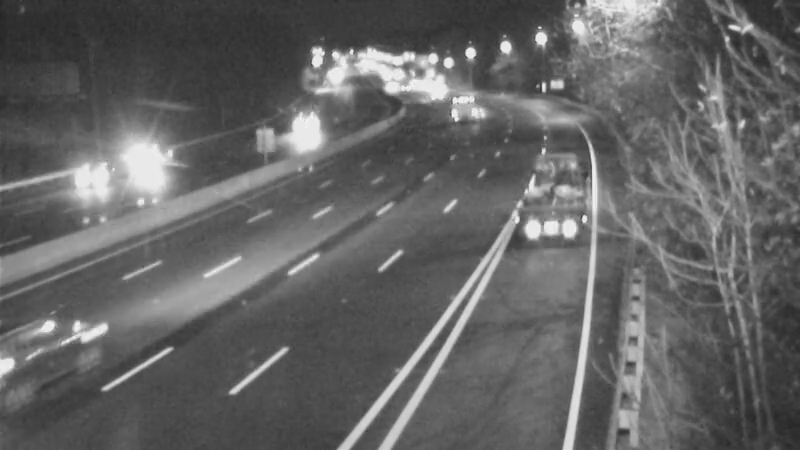vehicle: (1, 318, 103, 428), (506, 176, 586, 256), (58, 141, 138, 221), (110, 121, 190, 201), (408, 69, 458, 119), (433, 78, 483, 128), (285, 112, 335, 162)
